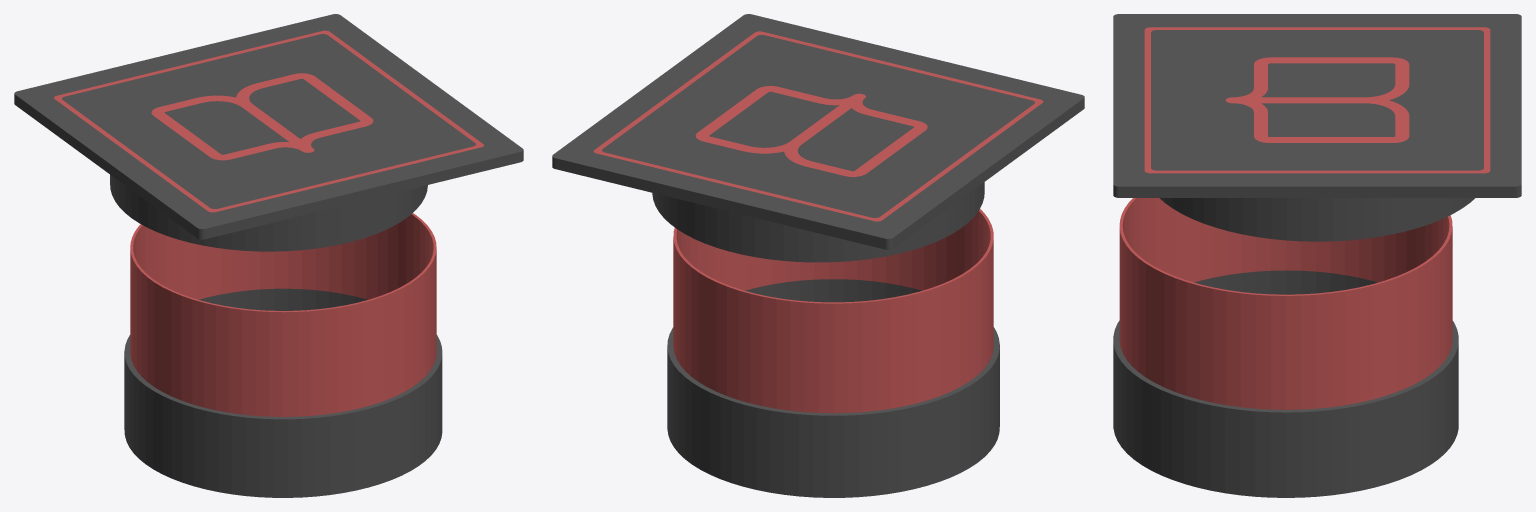
File: bomboniera-lettere-facolta-aperto.glb
3 renders of one model, left to right at view 1: azimuth 30°, elevation 25°; view 2: azimuth 150°, elevation 25°; view 3: azimuth 270°, elevation 25°, orthographic. The views are drawn at different scales.
Visible parts, largest first — view 1: struttura_coperchio, fascia, struttura_base, simbolo_intarsio, bordo; view 2: struttura_coperchio, fascia, struttura_base, simbolo_intarsio, bordo; view 3: struttura_coperchio, fascia, struttura_base, simbolo_intarsio, bordo.
Boxes of the visible parts, x1=… form: struttura_coperchio: x1=14, y1=14, x2=523, y2=251; fascia: x1=130, y1=213, x2=436, y2=416; struttura_base: x1=124, y1=288, x2=442, y2=497; simbolo_intarsio: x1=151, y1=73, x2=373, y2=160; bordo: x1=54, y1=30, x2=483, y2=212; struttura_coperchio: x1=552, y1=14, x2=1084, y2=262; fascia: x1=673, y1=209, x2=993, y2=413; struttura_base: x1=667, y1=279, x2=999, y2=497; simbolo_intarsio: x1=695, y1=86, x2=927, y2=176; bordo: x1=593, y1=31, x2=1043, y2=221; struttura_coperchio: x1=1113, y1=14, x2=1521, y2=241; fascia: x1=1119, y1=198, x2=1452, y2=409; struttura_base: x1=1113, y1=270, x2=1458, y2=497; simbolo_intarsio: x1=1225, y1=57, x2=1409, y2=142; bordo: x1=1144, y1=27, x2=1490, y2=173.
Bounding box in the file's own units: 0.065 × 0.057 × 0.065.
